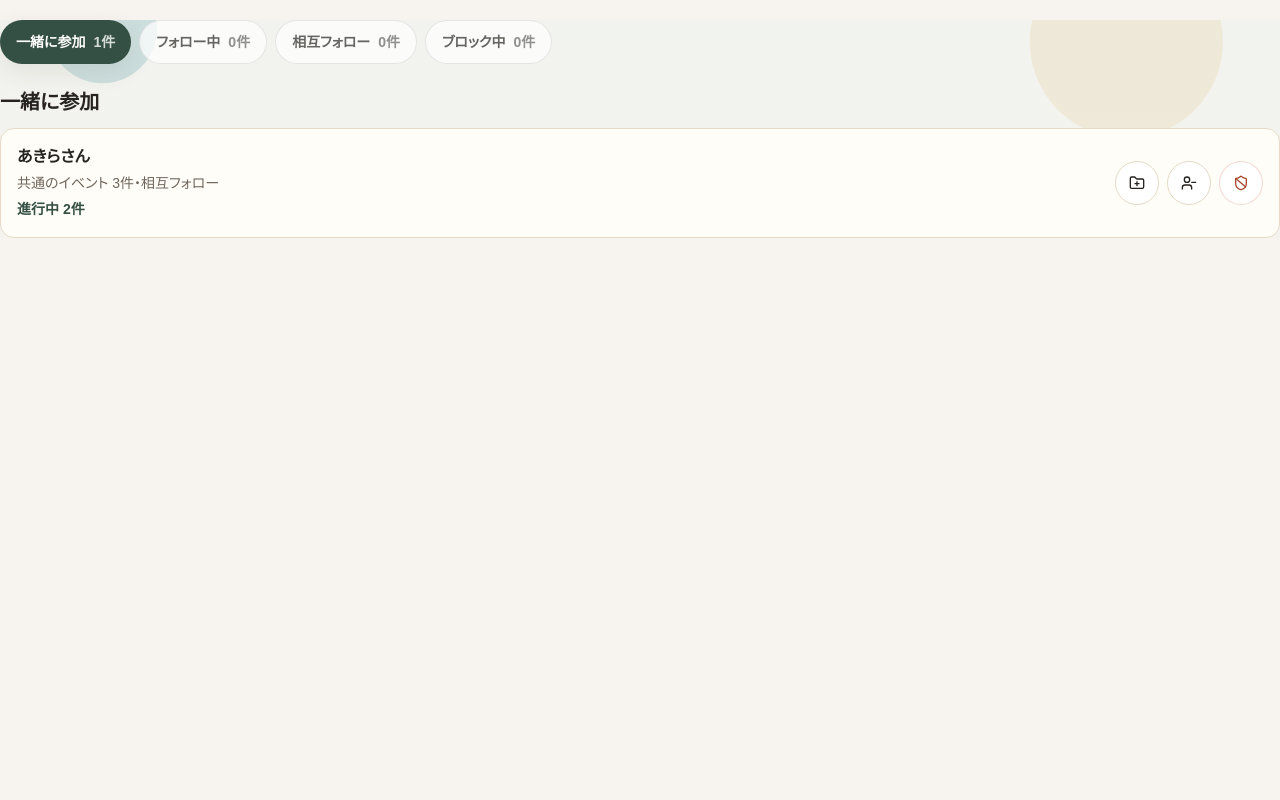
Test: ConnectionList › 進行中の共通イベント › 押すとloadActiveSharedEventsActionを呼び、結果をモーダルに表示する
The width and height of the screenshot is (1280, 800).
What coordinates should you click on to do the following:
click the button "進行中 2件"
I would click on:
 (51, 209)
Its box is [17, 197, 85, 221].
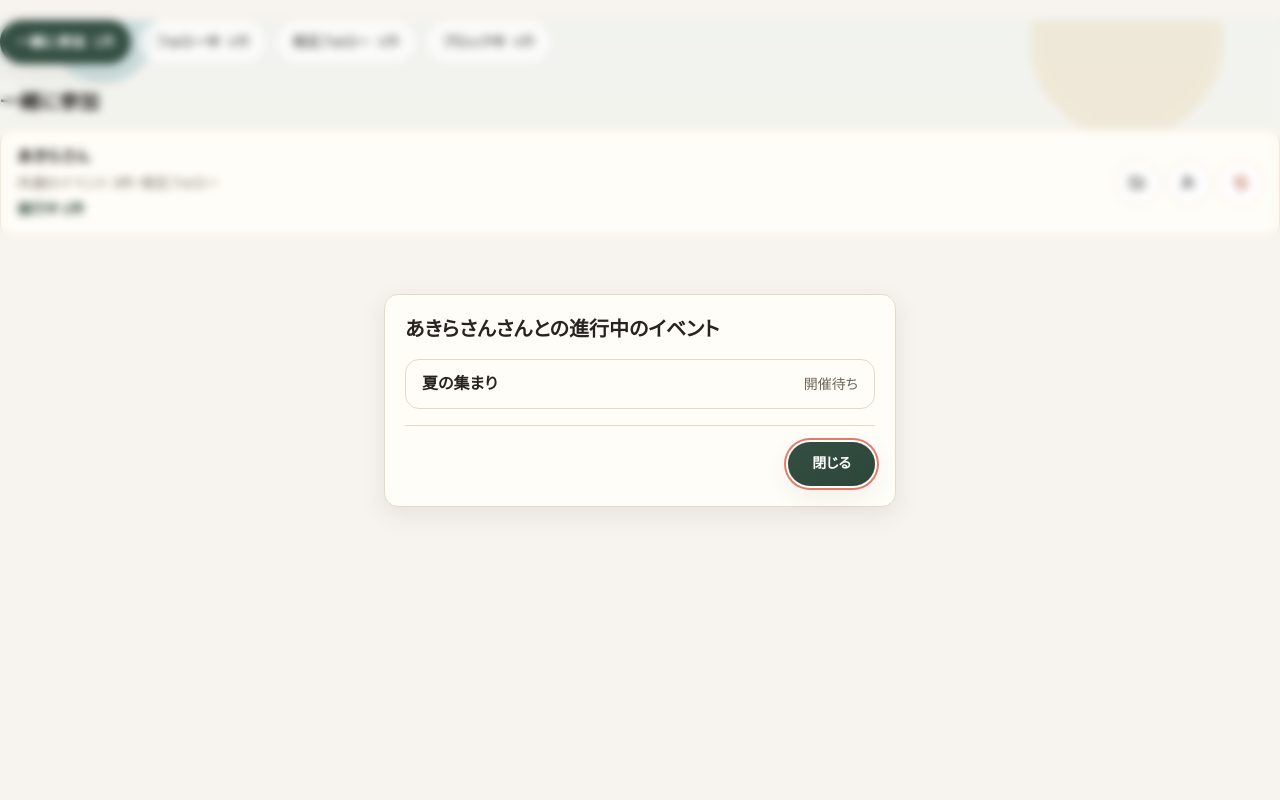
Result: the link "夏の集まり 開催待ち" is shown at [405, 358, 875, 408]
